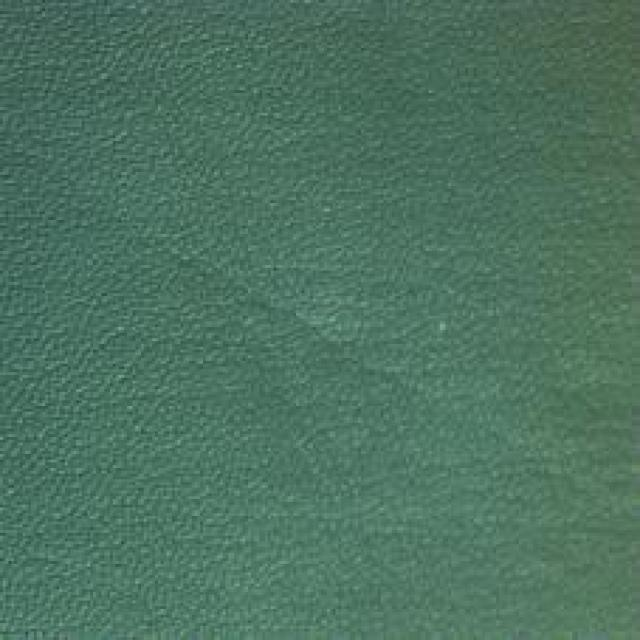Growth Marks: (210, 233, 440, 410)
